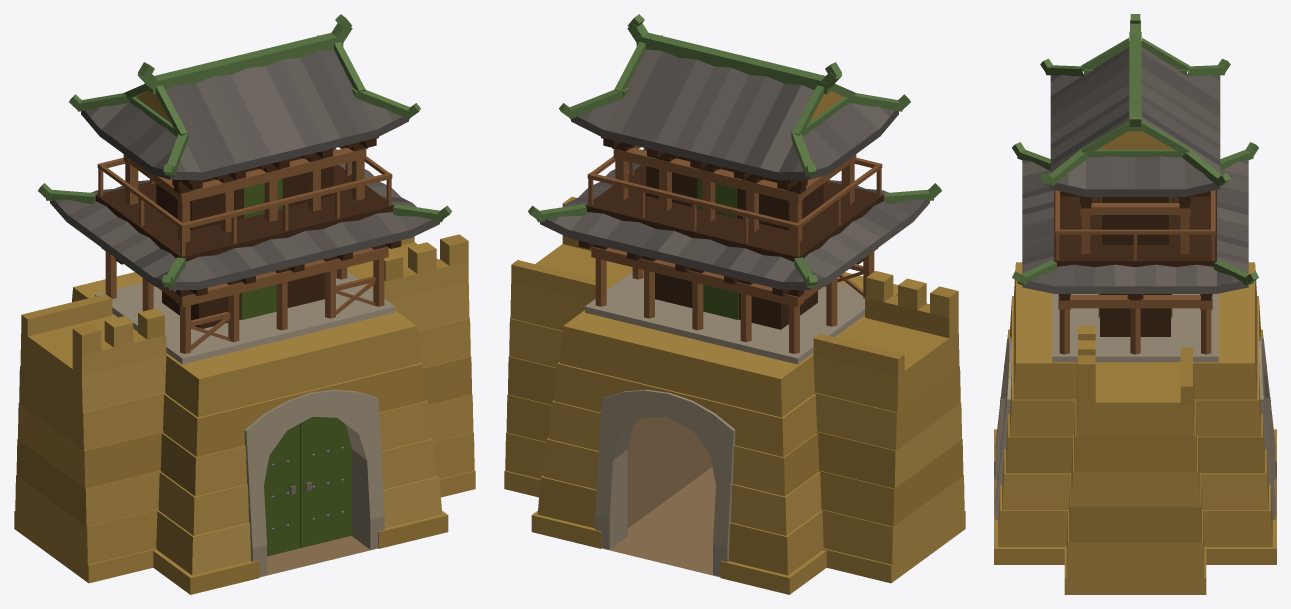
The model's file is city-gate-77d012.glb.
3 views of the same model, side by side, from view 1: azimuth 30°, elevation 25°; view 2: azimuth 150°, elevation 25°; view 3: azimuth 270°, elevation 25° (orthographic). The views are drawn at different scales.
Parts seen in each view (by area): view 1: object 1, door-r, door-l; view 2: object 1; view 3: object 1.
Boxes of the visible parts, x1,y1,x2,y2 form: object 1: (14, 14, 475, 594); door-r: (300, 416, 352, 547); door-l: (264, 424, 299, 556); object 1: (504, 14, 965, 594); object 1: (994, 14, 1276, 594).
Bounding box in the file's own units: 12 × 13.9 × 8.
